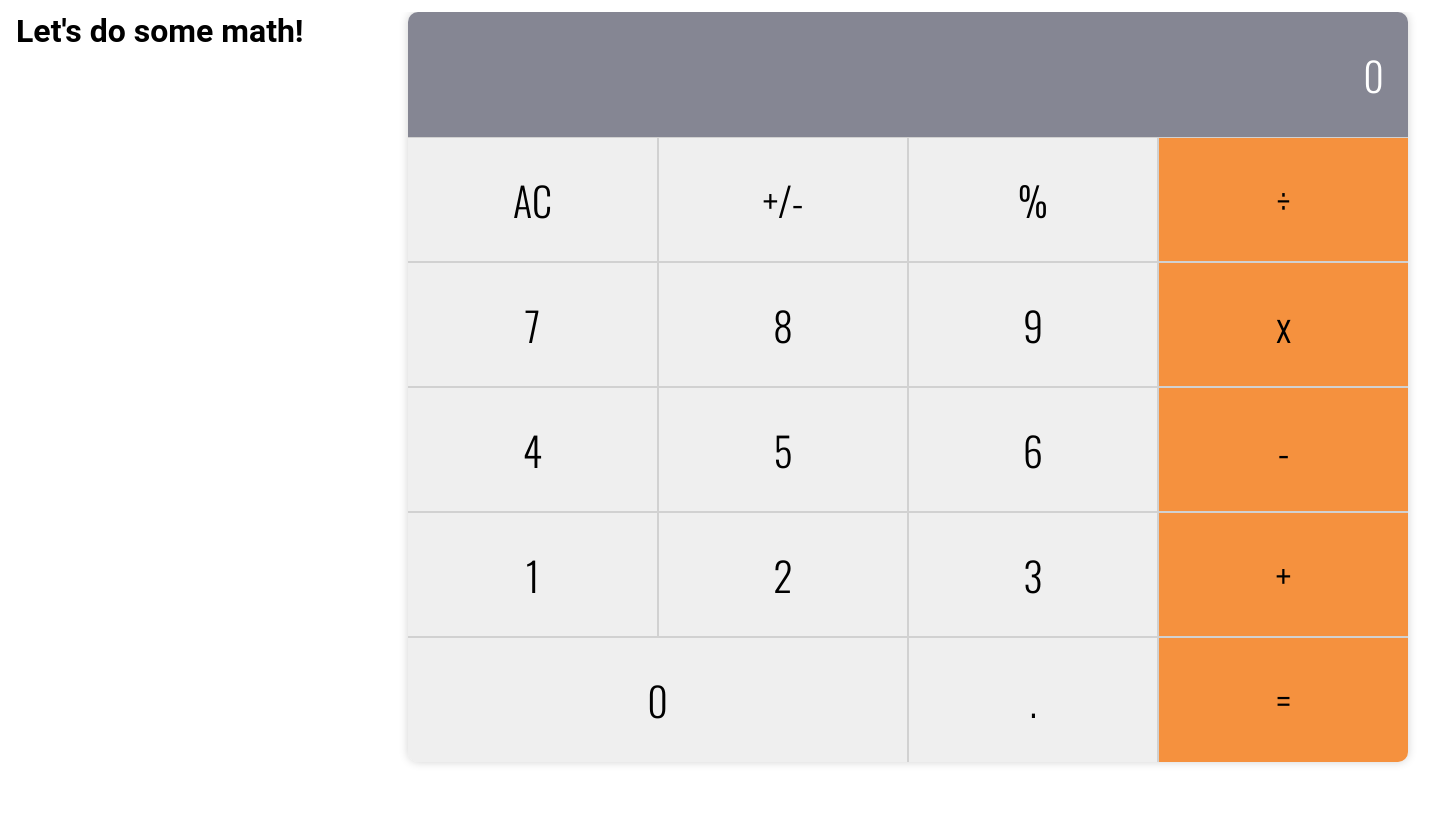
Test case: Calculator user interaction › when user hits a "4" then hits "+" then hits "5" then hits "=" it renders "9"
The width and height of the screenshot is (1440, 822).
Click the button "4": (533, 450) [408,387,658,512]
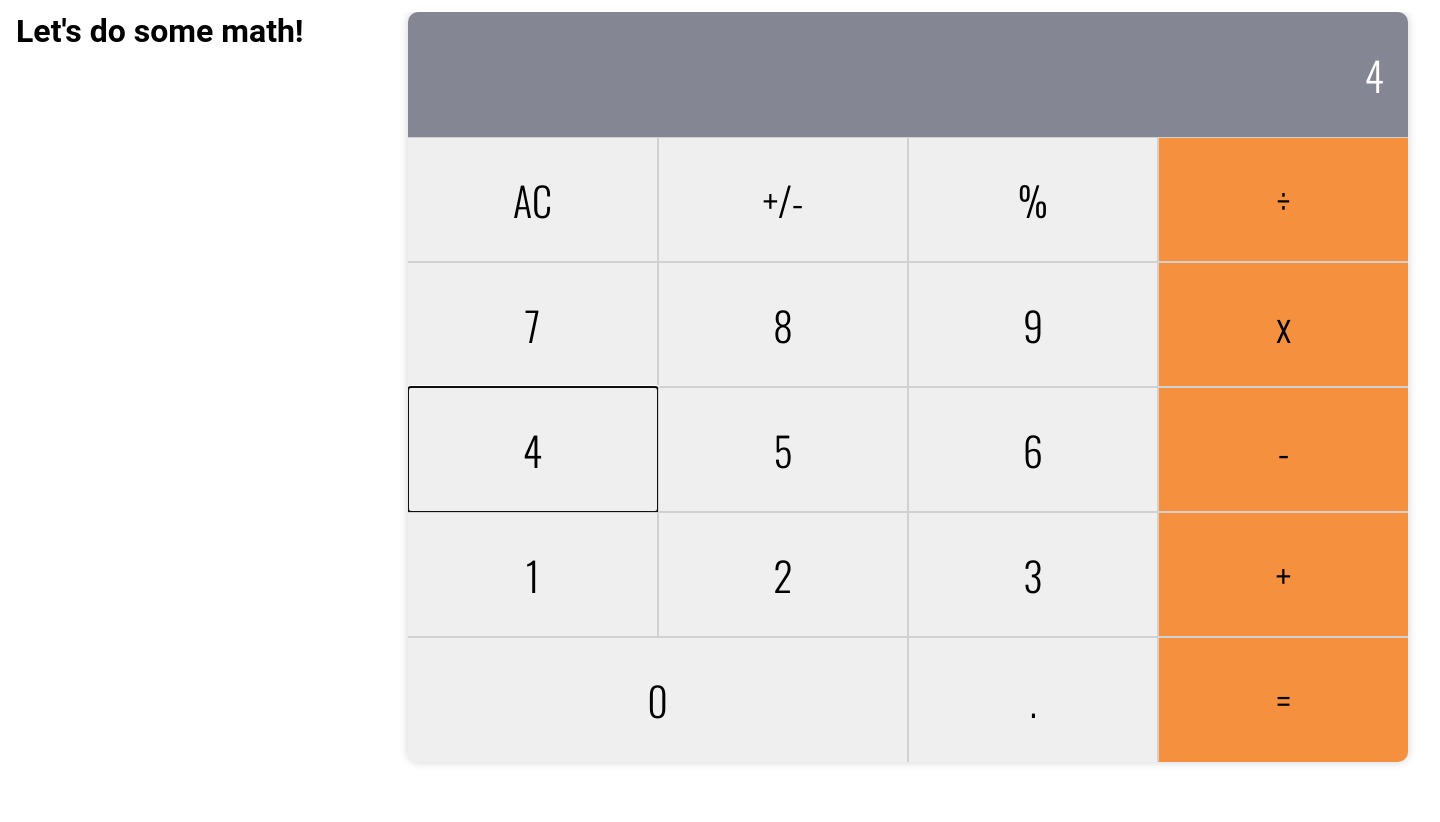
Click the button "+": (1283, 574) [1158,512,1408,637]
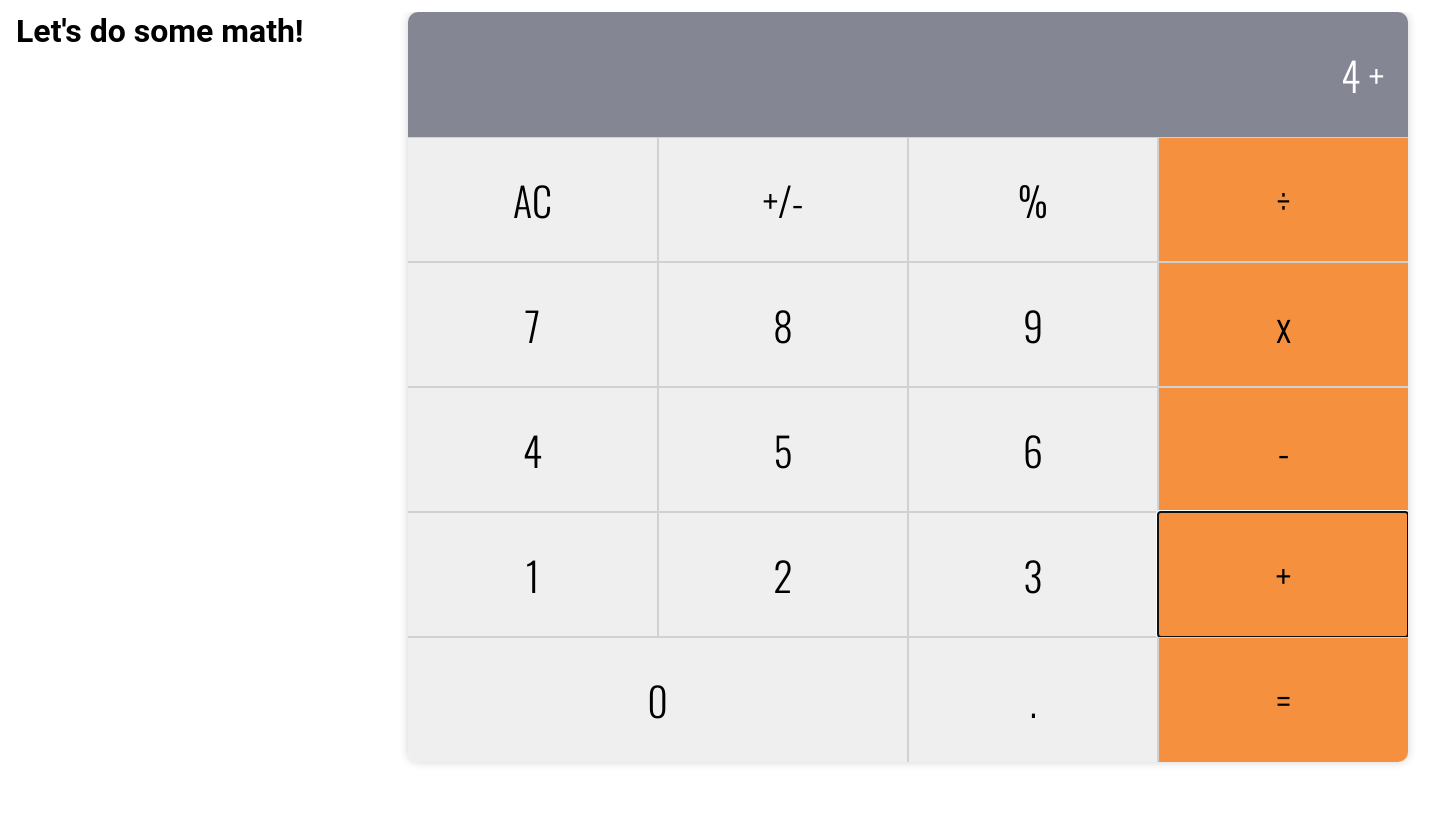
Click the button "5": (783, 450) [658,387,908,512]
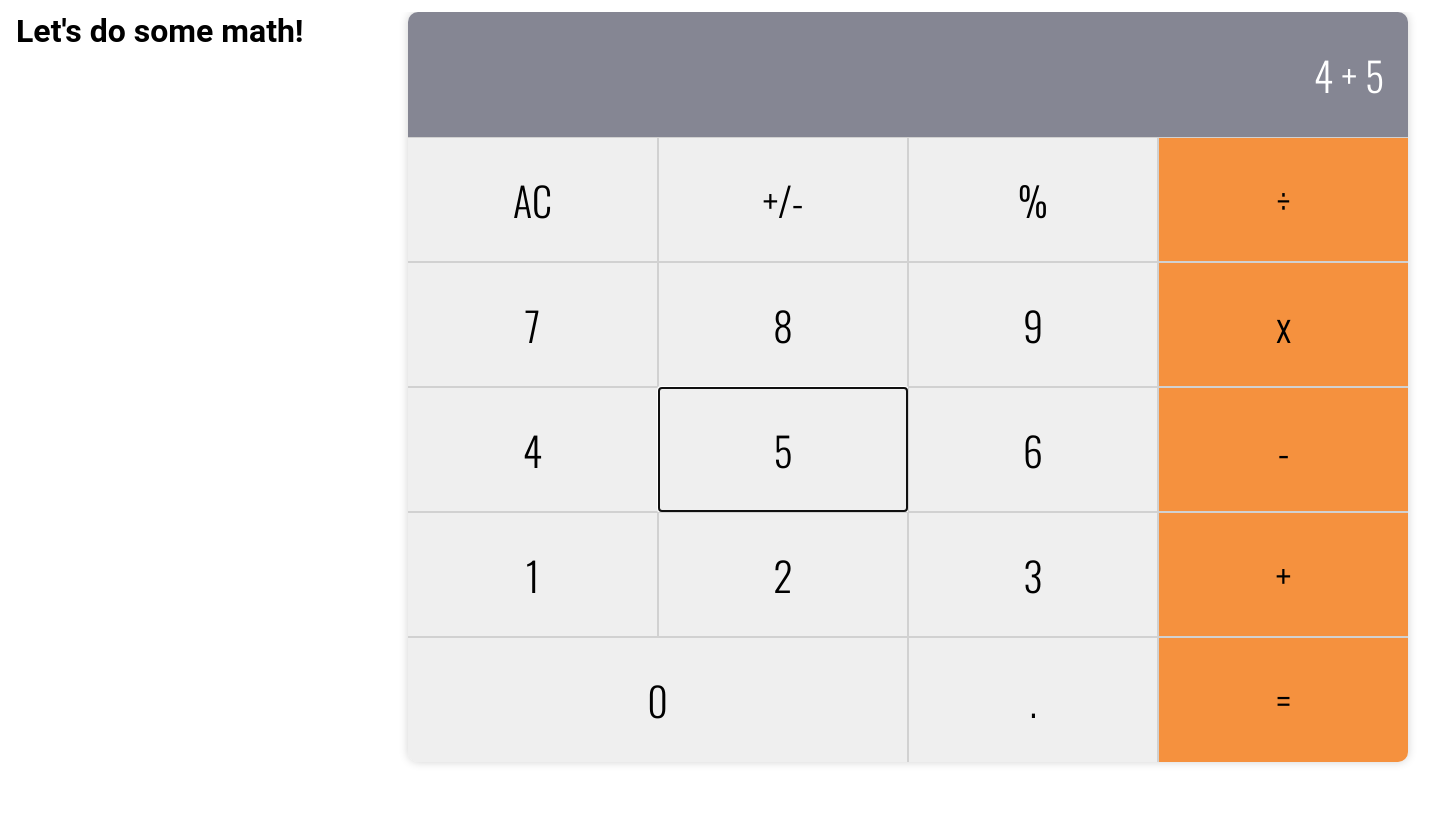
Click the button "=": (1283, 700) [1158,637,1408,762]
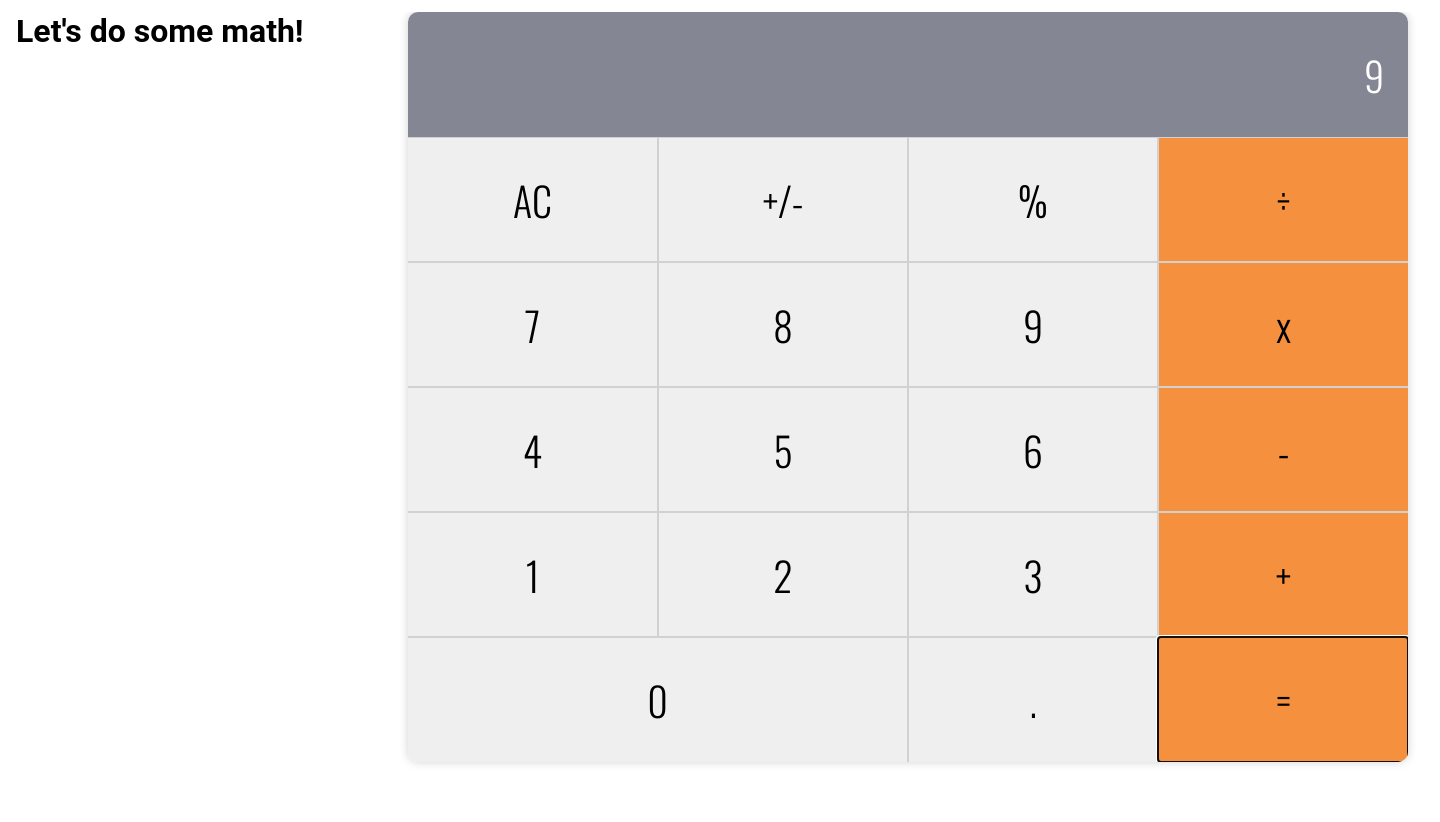
Expected: the text with test id "display" reads "9", [1364,44,1384,104]
